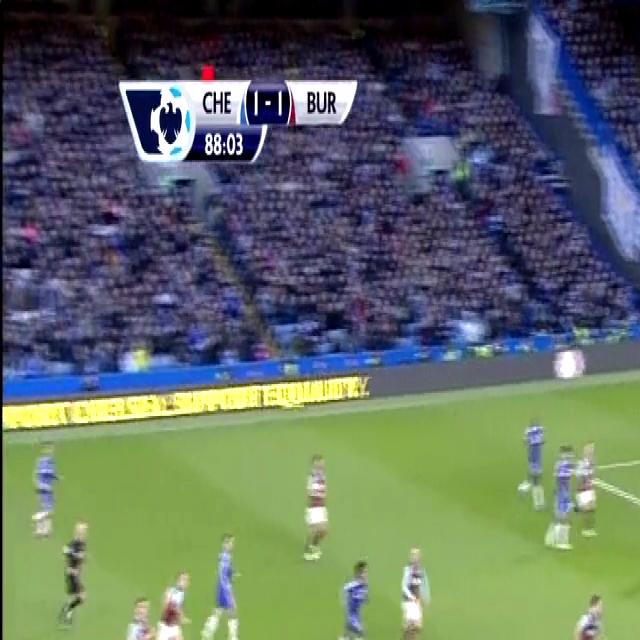referee: (54, 513, 94, 637)
soccer-player: (205, 515, 251, 640), (294, 445, 336, 572), (562, 428, 602, 552), (545, 432, 584, 559), (391, 530, 434, 640), (323, 546, 372, 640), (520, 402, 556, 518), (26, 431, 62, 546), (151, 553, 192, 640), (549, 583, 609, 640), (114, 597, 164, 640), (639, 459, 640, 592)
